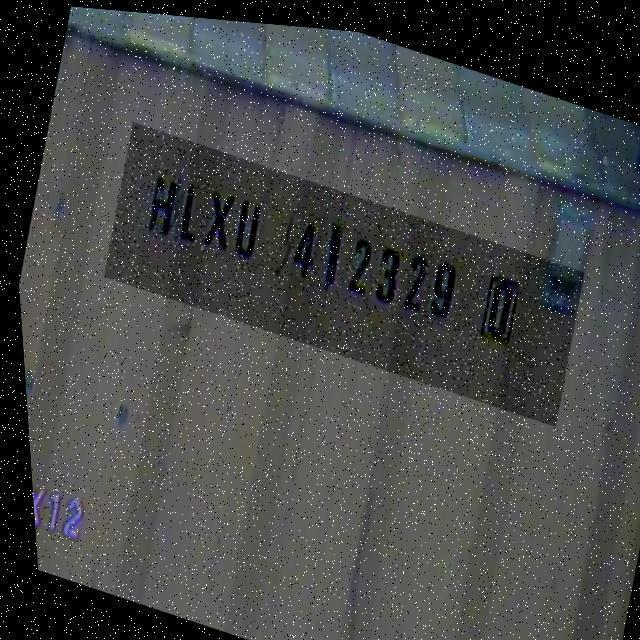container_number_h: (91, 116, 589, 419)
